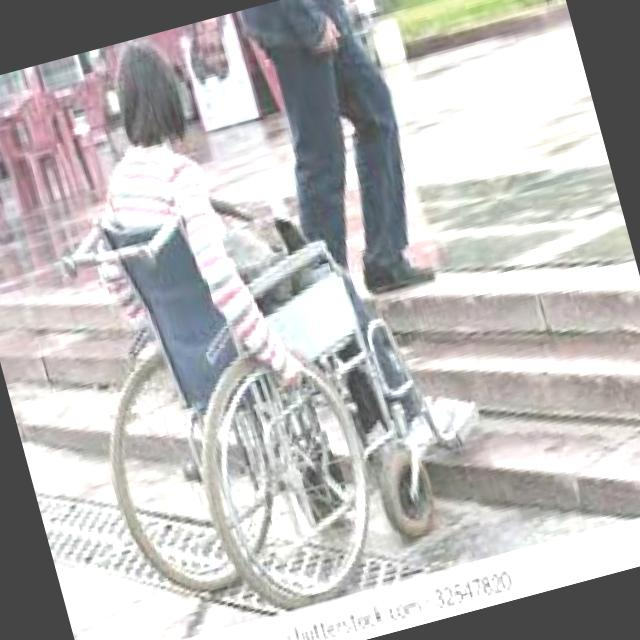Person: (8, 0, 515, 640)
